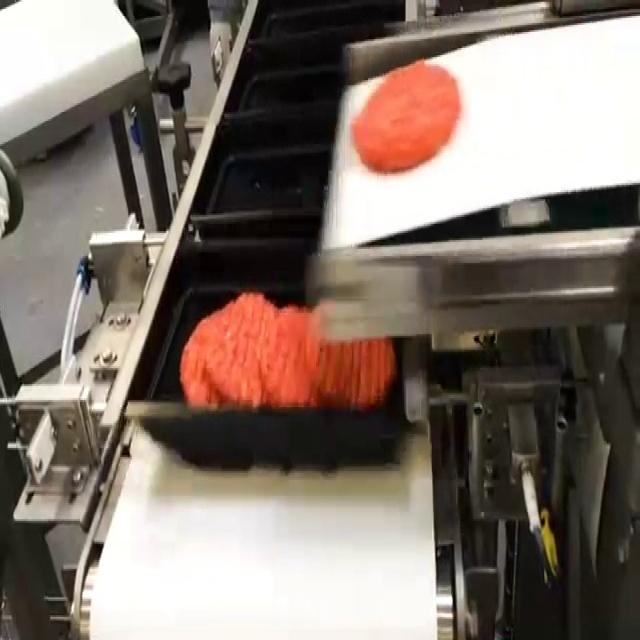4-hamburguer: (180, 292, 395, 405)
hamburguer: (352, 60, 460, 172)
